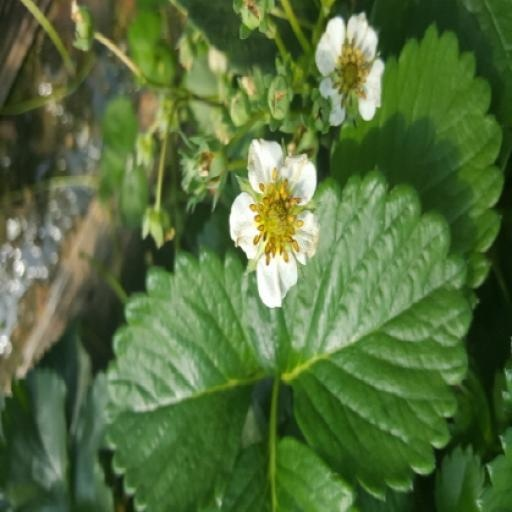Blossom Blight: (247, 242, 306, 348)
